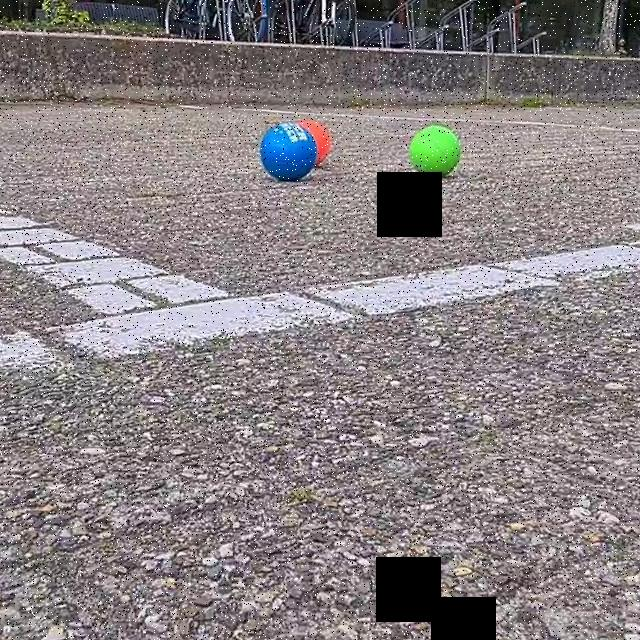ball: (260, 119, 318, 182), (410, 123, 464, 177)
